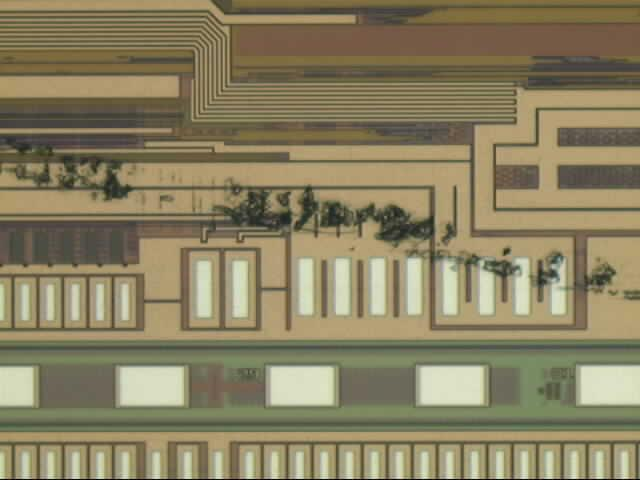SCRATCH: (1, 139, 640, 307)
